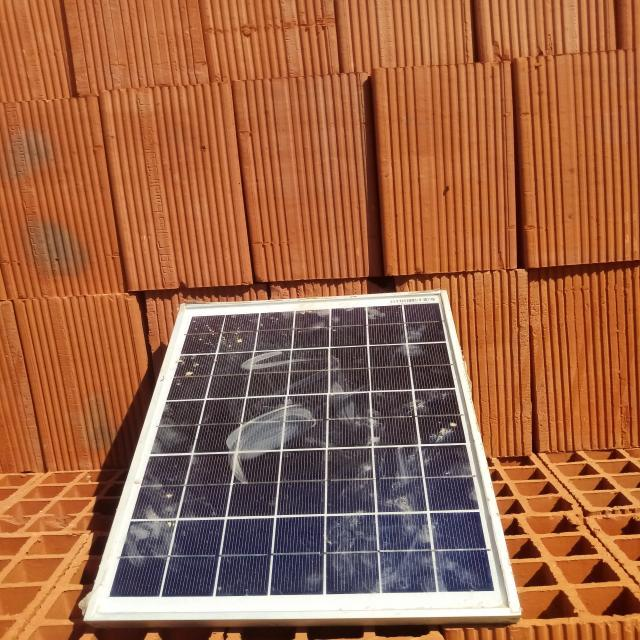faulty: (88, 292, 515, 617)
